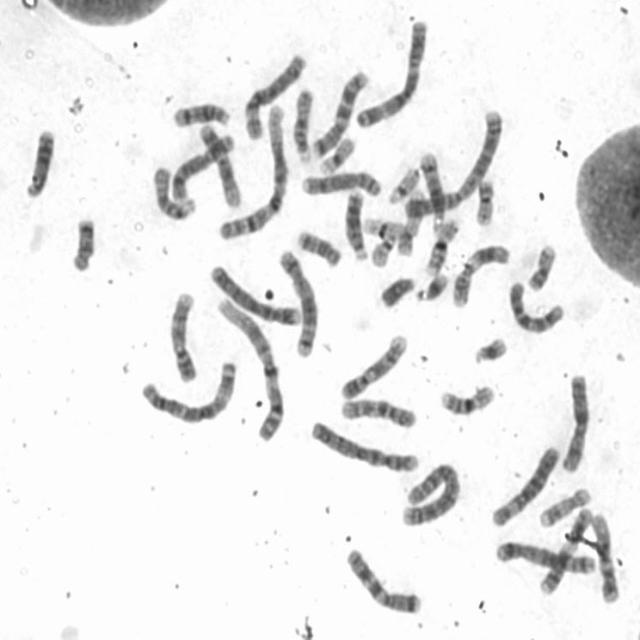A1: (212, 292, 286, 443), (215, 97, 292, 242)
A2: (399, 102, 506, 220), (397, 457, 462, 528)
A3: (351, 12, 431, 129), (136, 354, 241, 426)
B4: (306, 414, 422, 474), (205, 258, 304, 328)
B5: (274, 242, 322, 360), (490, 536, 597, 577)
C10: (504, 274, 568, 336), (335, 392, 419, 430)
C11: (536, 502, 596, 597), (446, 238, 511, 309)
C12: (194, 117, 244, 209), (587, 507, 623, 605)
C6: (488, 438, 563, 529), (240, 48, 310, 142)
C7: (341, 542, 425, 616), (306, 64, 370, 160)
C8: (168, 127, 239, 204), (298, 165, 386, 199)
C9: (336, 328, 410, 402), (164, 285, 200, 384)
D13: (20, 123, 58, 200), (341, 184, 370, 261)
D14: (416, 146, 448, 226), (170, 96, 233, 129)
D15: (149, 160, 199, 222), (289, 84, 316, 164)
E16: (420, 212, 462, 276), (434, 378, 498, 418)
E17: (535, 479, 594, 528), (393, 184, 427, 258)
E18: (293, 223, 344, 269), (66, 210, 98, 274)
F19: (314, 131, 357, 176), (359, 212, 407, 241)
F20: (523, 240, 559, 292), (471, 174, 497, 228)
G21: (410, 266, 450, 303), (469, 331, 510, 366)
G22: (384, 161, 422, 205), (366, 227, 398, 268)
X: (556, 368, 592, 475)
Y: (376, 270, 418, 310)
